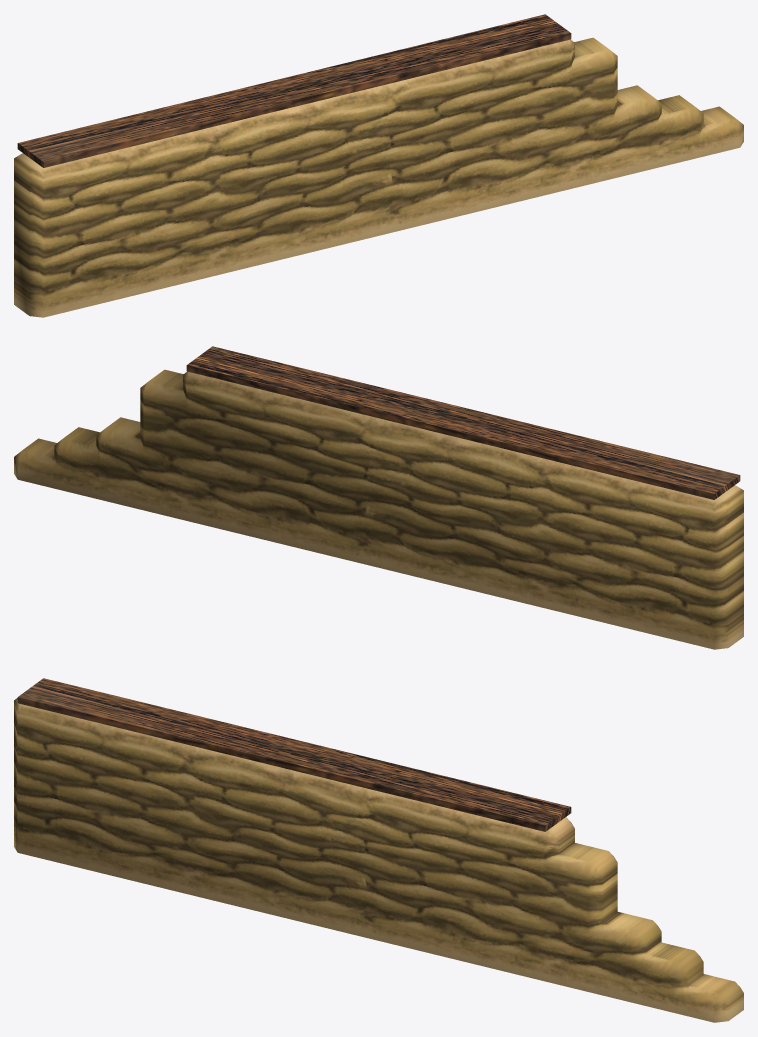
The model's file is M5_MG_SandbagMount2.glb.
The picture shows the model from 3 angles, top to bottom: view 1: azimuth 30°, elevation 25°; view 2: azimuth 150°, elevation 25°; view 3: azimuth 330°, elevation 25°; orthographic projection.
Parts seen in each view (by area): view 1: M5_MG_SANDBAGMOUNT2; view 2: M5_MG_SANDBAGMOUNT2; view 3: M5_MG_SANDBAGMOUNT2.
Boxes of the visible parts, x1,y1,x2,y2 form: M5_MG_SANDBAGMOUNT2: (14,14,743,317); M5_MG_SANDBAGMOUNT2: (14,346,743,649); M5_MG_SANDBAGMOUNT2: (14,678,743,1022).
Bounding box in the file's own units: 6 × 1.25 × 0.375.
2 materials, 2 textured.
